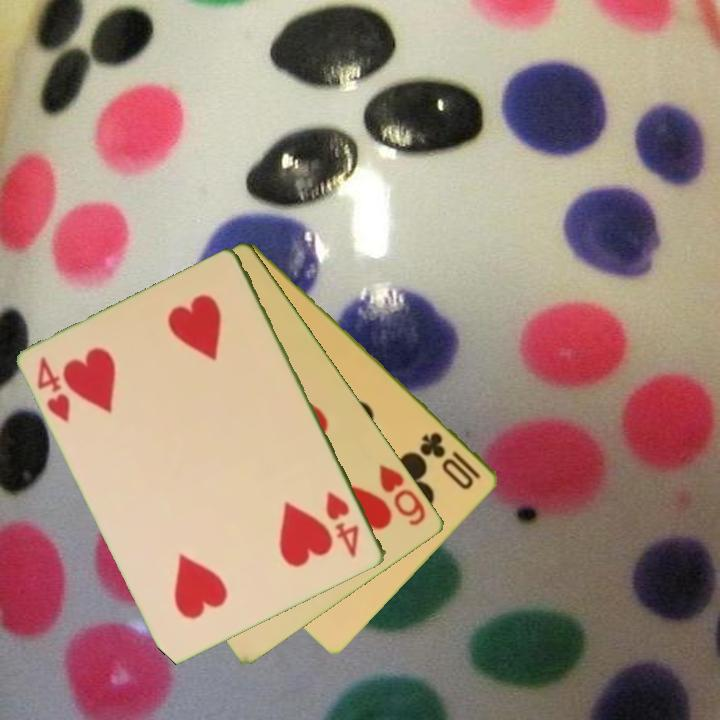10c: (416, 428, 485, 493)
4h: (322, 487, 363, 561), (34, 353, 74, 425)
6h: (375, 460, 430, 529)
